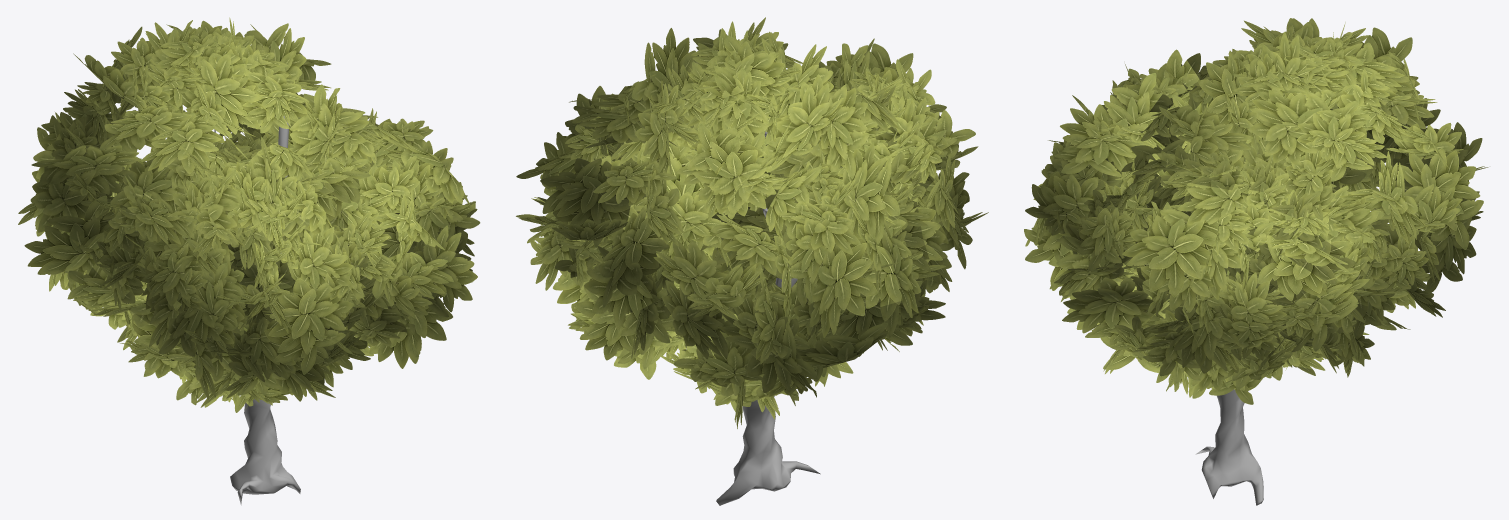
The model's file is Tree01.fbx.
The picture shows the model from 3 angles, left to right: view 1: azimuth 30°, elevation 25°; view 2: azimuth 150°, elevation 25°; view 3: azimuth 270°, elevation 25°; orthographic projection. The views are drawn at different scales.
Parts seen in each view (by area): view 1: Leaves01, Tree01; view 2: Leaves01, Tree01; view 3: Leaves01, Tree01.
Part boxes in pixels (x1,y1,x2,y2): Leaves01: [18, 17, 480, 412]; Tree01: [214, 116, 300, 505]; Leaves01: [516, 17, 988, 428]; Tree01: [716, 131, 820, 505]; Leaves01: [1024, 18, 1488, 404]; Tree01: [1195, 389, 1263, 505].
Bounding box in the file's own units: 878 × 993 × 914.
2 materials, 1 textured.
